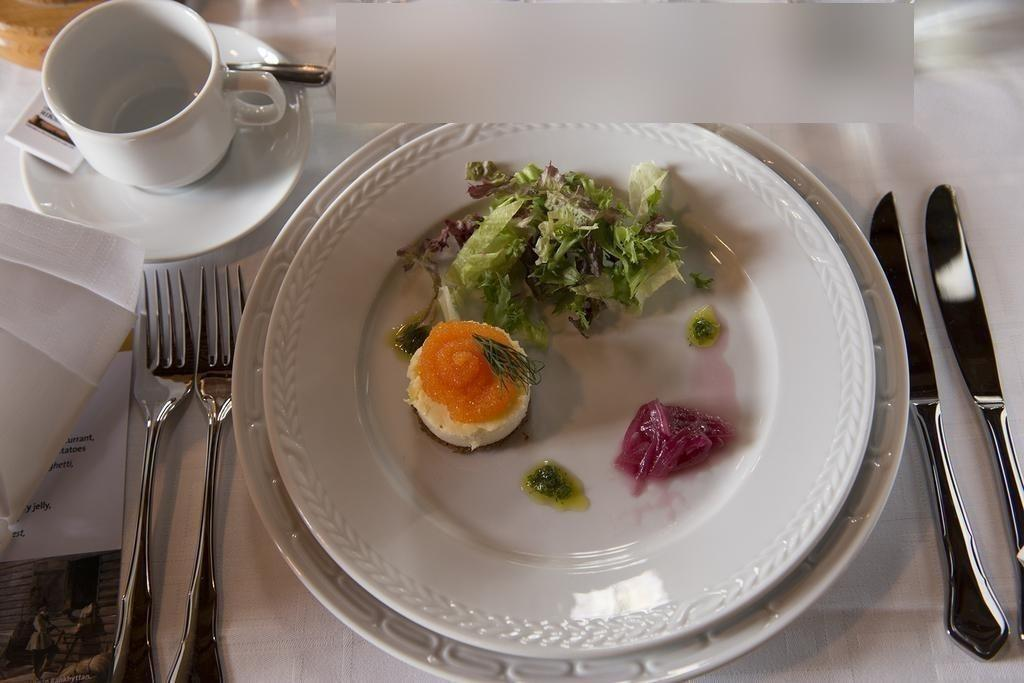cup-handle: (42, 0, 289, 191)
